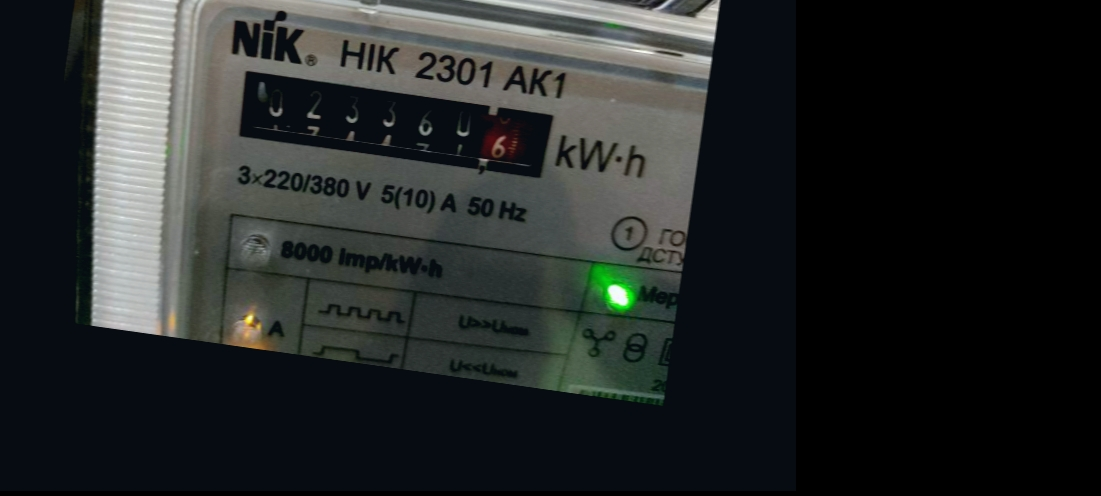0: (263, 82, 288, 117), (453, 104, 474, 137)
2: (301, 84, 328, 121)
3: (339, 89, 364, 124), (377, 94, 401, 127)
6: (413, 102, 437, 136), (485, 127, 510, 159)
screen: (216, 49, 568, 194)
